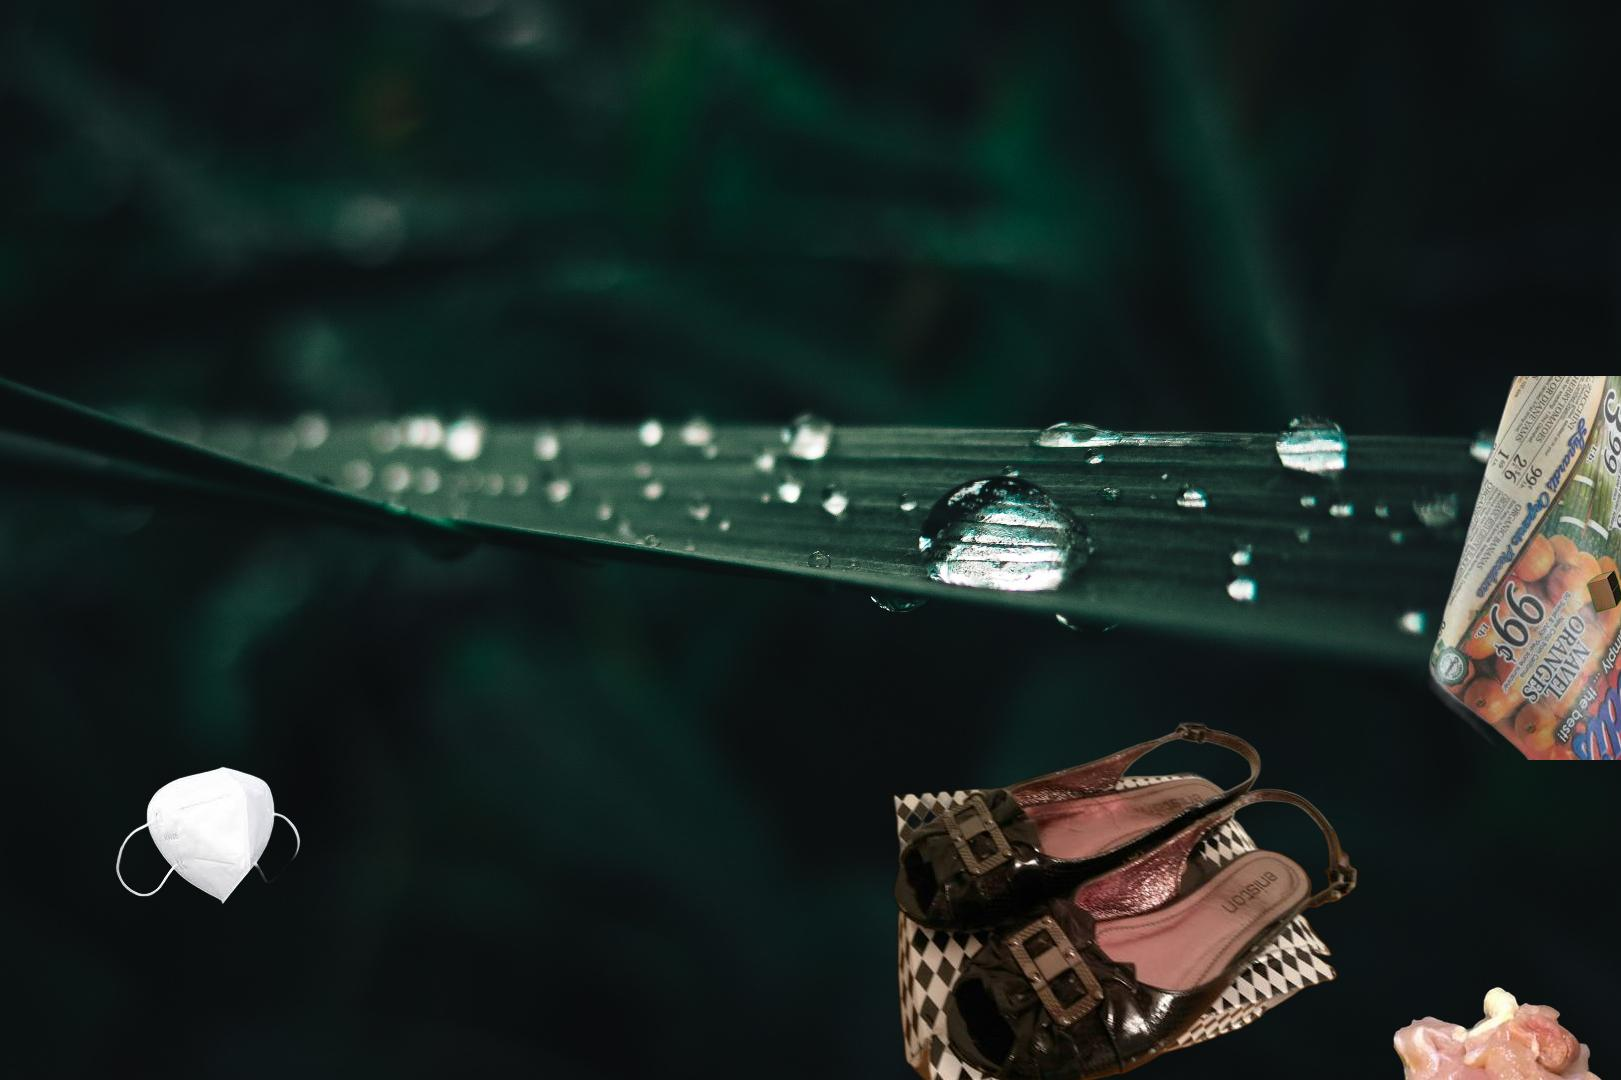biological: (1375, 984, 1621, 1080)
clothes: (889, 720, 1363, 1080)
glass: (2, 1078, 295, 1080)
paper: (1417, 376, 1621, 761)
trash: (113, 764, 303, 909)
trashbox-cardboard: (1582, 524, 1621, 644)
